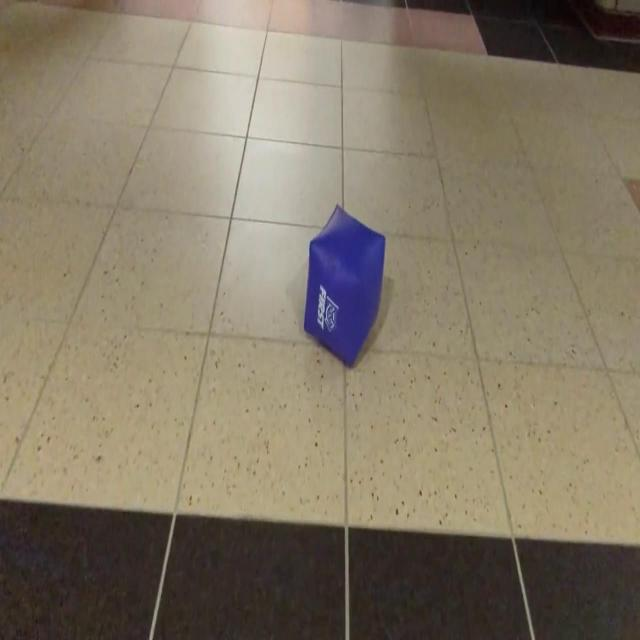frc_cube: (300, 206, 386, 369)
